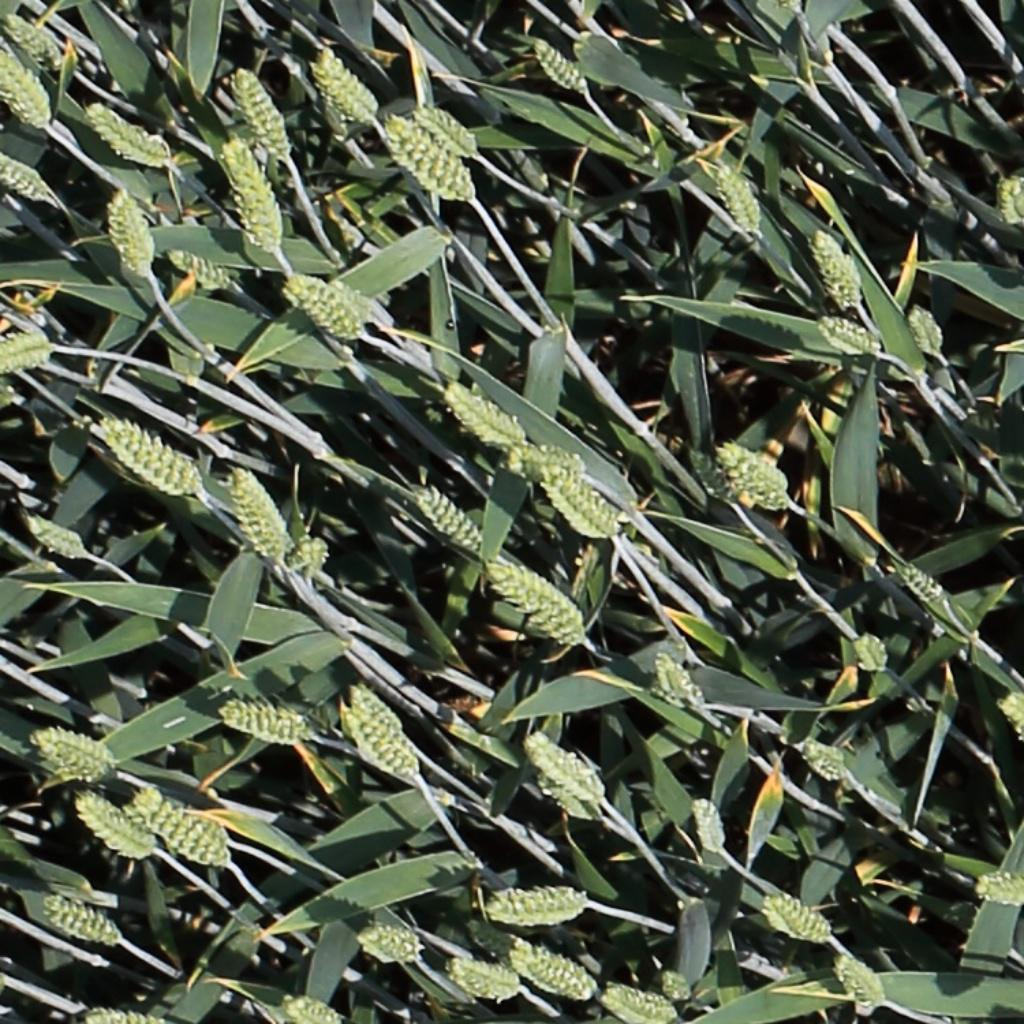0-0: (226, 465, 336, 580), (101, 416, 200, 496), (386, 113, 473, 202), (525, 702, 606, 794), (223, 128, 282, 252), (126, 795, 228, 864), (492, 565, 585, 637), (232, 66, 293, 166), (338, 705, 419, 780), (718, 442, 800, 512), (542, 465, 619, 539), (285, 271, 364, 338), (416, 484, 487, 558), (315, 47, 380, 126), (86, 102, 167, 163), (445, 382, 521, 446), (76, 797, 154, 858), (812, 223, 866, 311), (782, 725, 856, 789), (512, 946, 595, 1000), (0, 45, 53, 129), (489, 884, 590, 926), (714, 157, 767, 236), (110, 184, 155, 275), (32, 731, 113, 781), (653, 648, 712, 715), (42, 897, 121, 947), (1, 12, 64, 72), (529, 35, 589, 96), (834, 950, 892, 1011), (535, 772, 604, 823), (686, 442, 740, 507), (765, 894, 834, 942), (0, 147, 59, 203), (415, 103, 480, 152), (218, 705, 309, 740), (348, 682, 405, 734), (167, 245, 232, 288), (690, 793, 730, 862), (895, 558, 950, 608), (24, 516, 87, 558), (603, 987, 678, 1021), (450, 961, 524, 995), (906, 299, 947, 360), (820, 316, 884, 354), (0, 325, 55, 367), (510, 446, 588, 475), (978, 861, 1024, 905), (853, 628, 892, 678), (359, 931, 421, 961), (995, 692, 1024, 752), (281, 996, 339, 1024), (658, 966, 697, 1006), (998, 167, 1022, 229)
